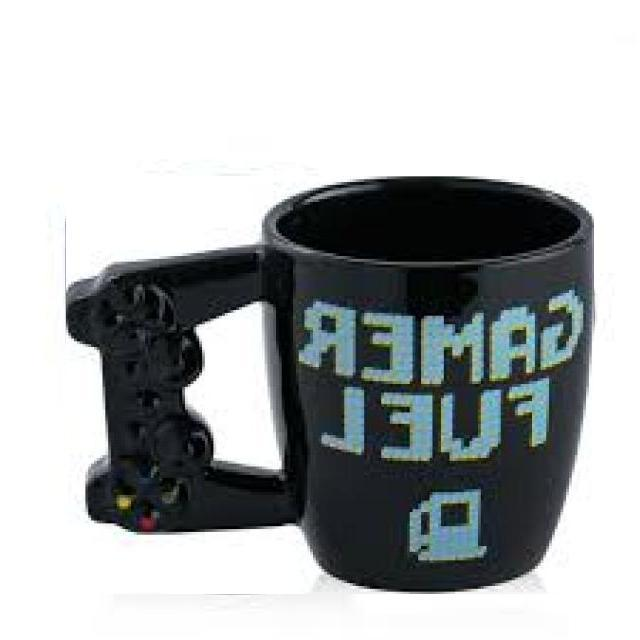Coffee Mug: (66, 173, 595, 598)
